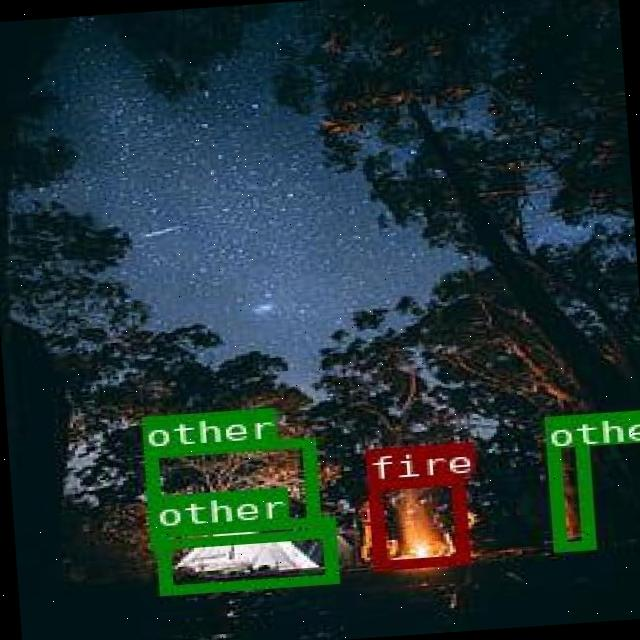fire: (366, 473, 467, 568)
